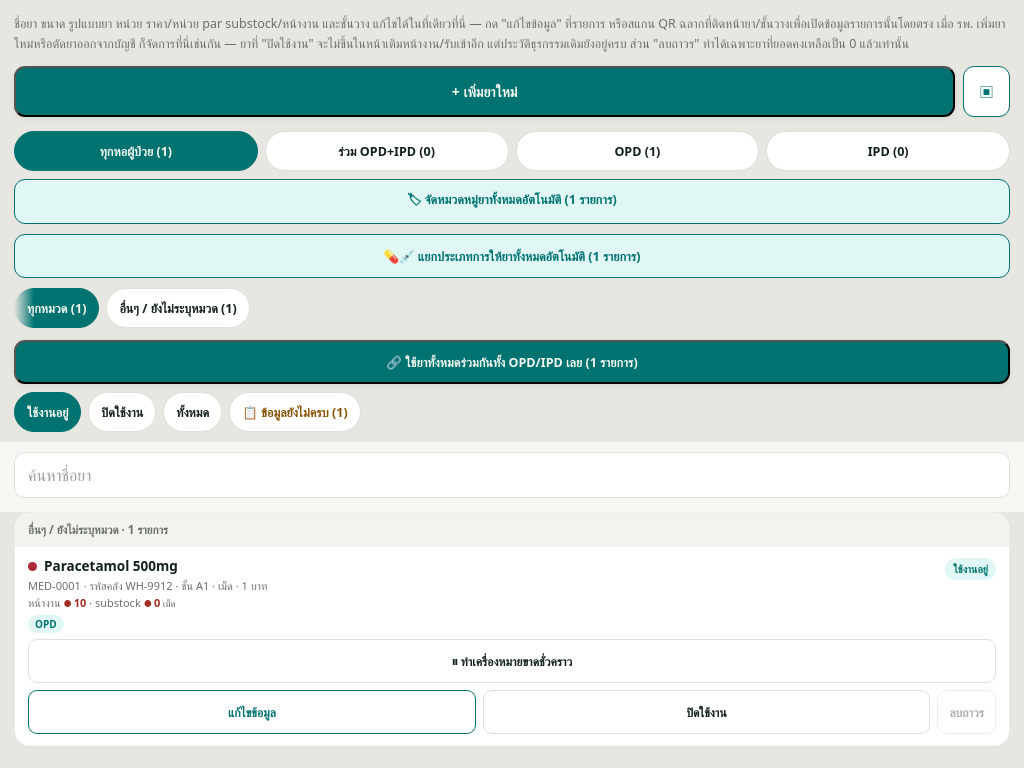
Test: MedsScreen — warehouse drug-code field regression › pre-fills the input from an existing med's whCode, and shows it on the list row
Click the button "แก้ไขข้อมูล" at (252, 712), box [28,690,476,734]
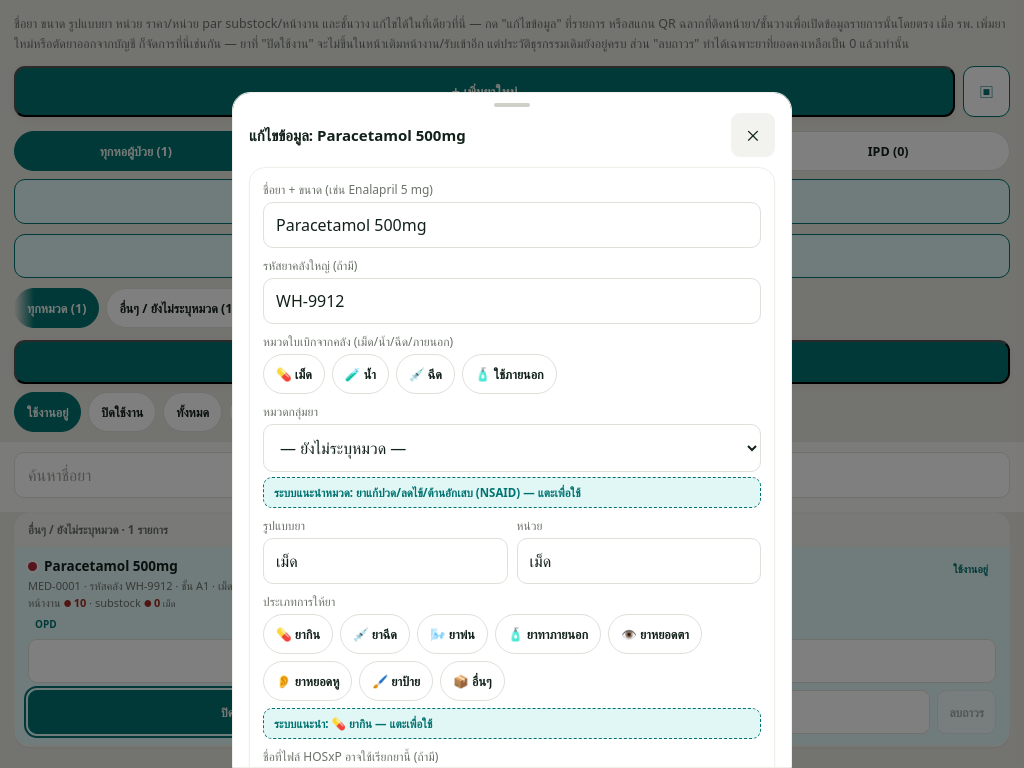
Now the field labelled "รหัสยาคลังใหญ่ (ถ้ามี)" holds "WH-9912", box [263,278,761,324]
